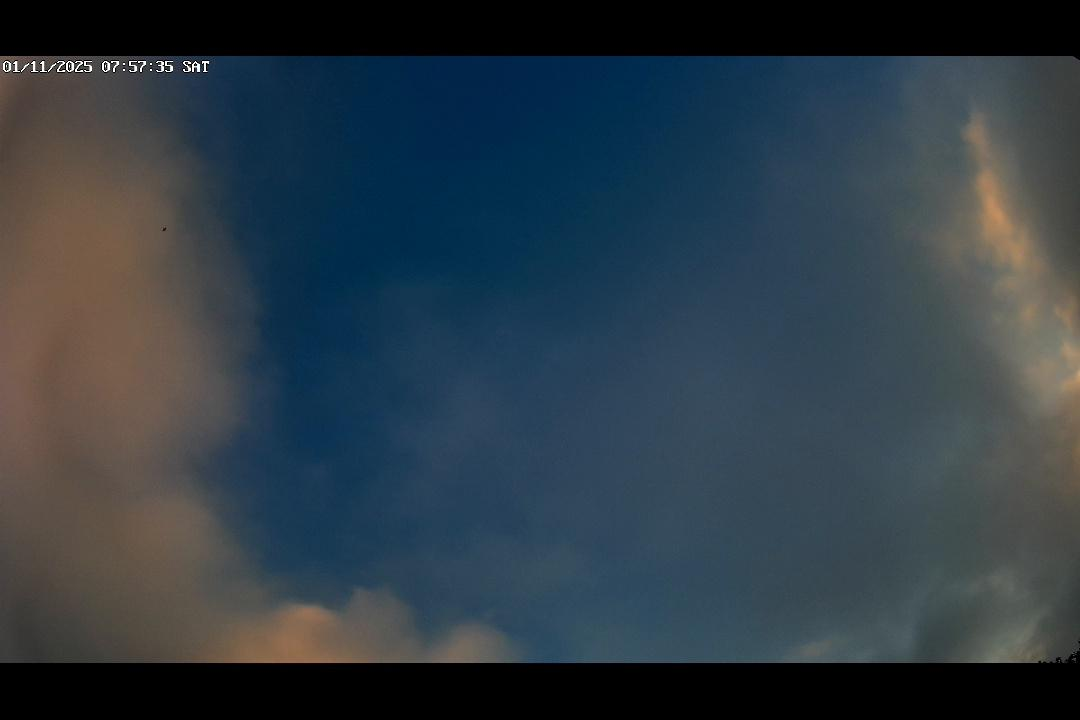WildLife: (159, 224, 170, 233)
